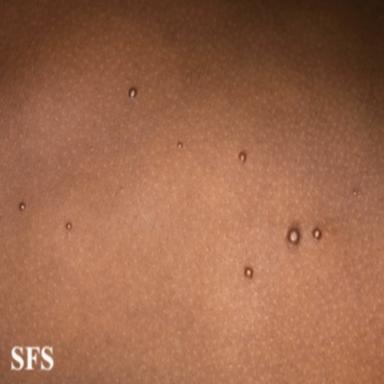Molluscum-Contagiosum: (288, 229, 299, 244), (312, 228, 322, 240), (244, 266, 253, 278), (128, 87, 137, 98), (239, 151, 246, 163), (65, 222, 72, 230), (19, 202, 25, 211), (177, 141, 183, 149)
